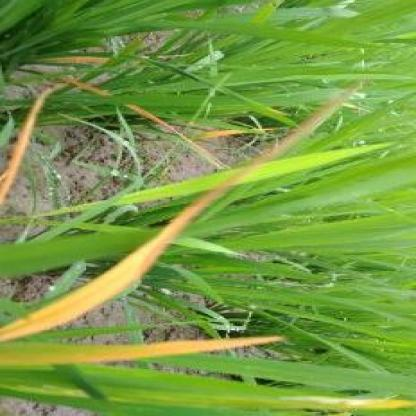Tungro: (1, 193, 218, 342), (1, 335, 283, 365)
